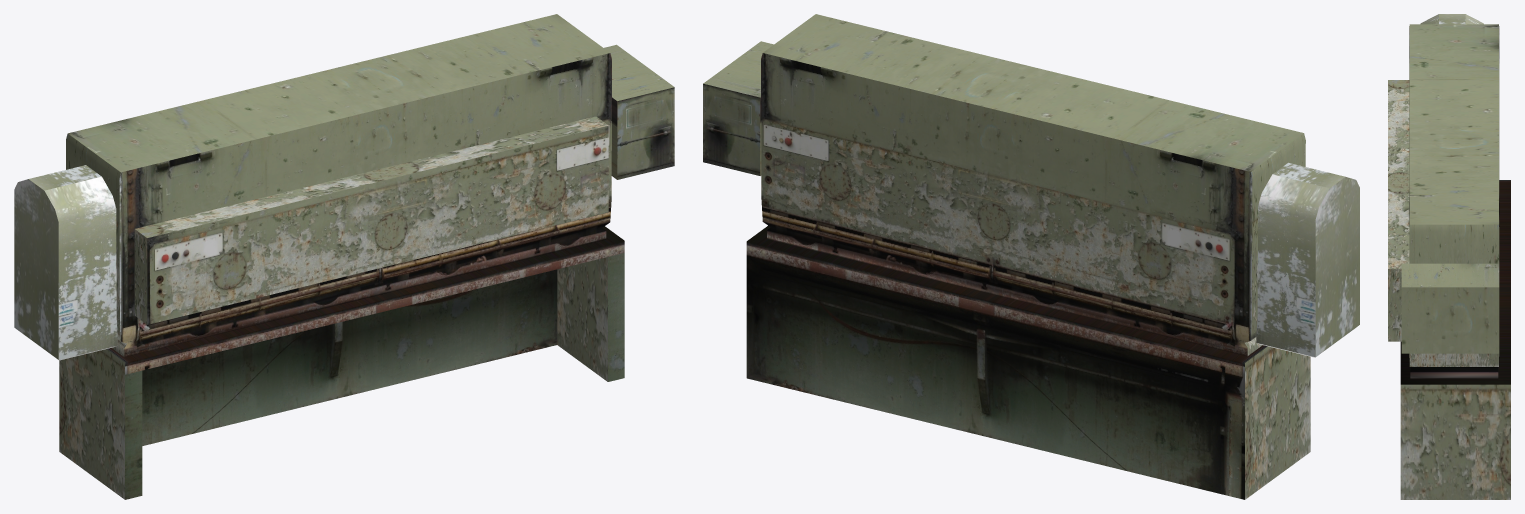
Rendered from industrial29.obj.
3 views of the same model, side by side, from view 1: azimuth 30°, elevation 25°; view 2: azimuth 150°, elevation 25°; view 3: azimuth 270°, elevation 25° (orthographic). The views are drawn at different scales.
Parts seen in each view (by area): view 1: industrial29; view 2: industrial29; view 3: industrial29.
Part boxes in pixels (x1,y1,x2,y2): industrial29: [14, 14, 674, 499]; industrial29: [703, 14, 1359, 499]; industrial29: [1388, 14, 1510, 499].
Bounding box in the file's own units: 172 × 87.23 × 35.76.
1 material, 1 textured.
